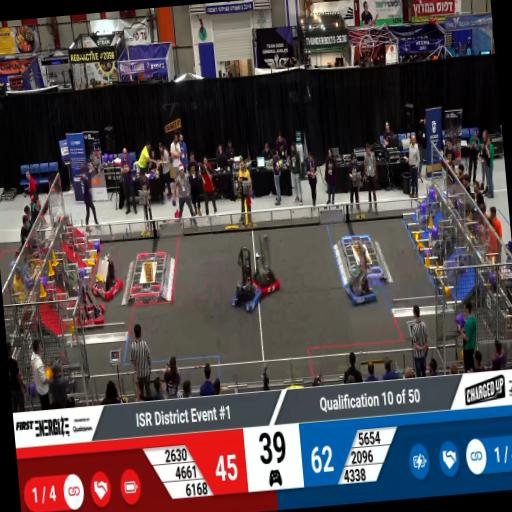robot: (229, 262, 265, 315), (339, 264, 378, 310), (252, 242, 282, 300), (90, 256, 126, 302), (72, 284, 106, 332), (47, 348, 78, 398)
